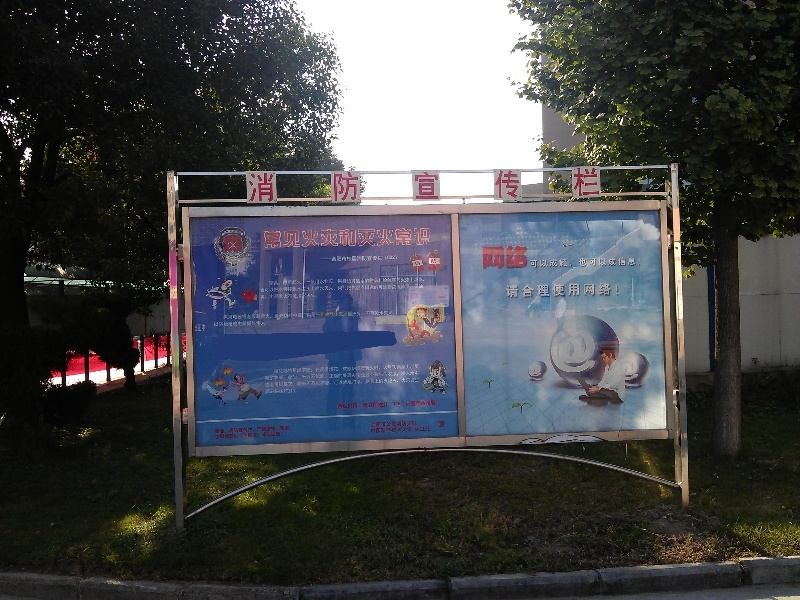text: (257, 167, 272, 204), (273, 167, 288, 204), (289, 167, 304, 204), (305, 167, 320, 204), (321, 167, 336, 204), (337, 167, 352, 204), (353, 167, 368, 204), (369, 167, 384, 204), (385, 167, 400, 204), (401, 167, 416, 204), (417, 167, 432, 204), (433, 167, 448, 204), (449, 167, 464, 204), (465, 167, 480, 204), (481, 167, 496, 204), (497, 167, 512, 204), (513, 167, 528, 204), (529, 167, 544, 204), (545, 167, 560, 204), (561, 167, 576, 204), (577, 167, 592, 204), (273, 226, 288, 250), (289, 226, 304, 250), (305, 226, 320, 250), (321, 226, 336, 250), (337, 226, 352, 250), (353, 226, 368, 250), (369, 226, 384, 250), (385, 226, 400, 250), (401, 226, 416, 250), (417, 226, 432, 250), (247, 167, 256, 204), (593, 167, 602, 204), (497, 247, 512, 269), (513, 247, 528, 269), (482, 247, 496, 269), (513, 282, 528, 299), (529, 282, 544, 299), (545, 282, 560, 299), (561, 282, 576, 299), (577, 282, 592, 299), (593, 282, 608, 299), (545, 257, 560, 270), (561, 257, 576, 270), (577, 257, 592, 270), (593, 257, 608, 270), (609, 257, 624, 270), (625, 257, 640, 270), (264, 226, 272, 250), (609, 282, 620, 299), (530, 257, 544, 270), (273, 276, 288, 287), (289, 276, 304, 287), (305, 276, 320, 287), (321, 276, 336, 287), (337, 276, 352, 287), (353, 276, 368, 287), (369, 276, 384, 287), (385, 276, 400, 287), (401, 276, 416, 287), (273, 283, 288, 294), (289, 283, 304, 294), (305, 283, 320, 294), (321, 283, 336, 294), (337, 283, 352, 294), (353, 283, 368, 294), (369, 283, 384, 294), (385, 283, 400, 294), (401, 283, 416, 294), (273, 370, 288, 381), (289, 370, 304, 381), (305, 370, 320, 381), (321, 370, 336, 381), (337, 370, 352, 381), (353, 370, 368, 381), (369, 370, 384, 381), (385, 370, 400, 381), (401, 370, 416, 381), (225, 310, 240, 320), (241, 310, 256, 320), (257, 310, 272, 320), (273, 310, 288, 320), (289, 310, 304, 320), (305, 310, 320, 320), (321, 310, 336, 320), (337, 310, 352, 320), (353, 310, 368, 320), (369, 310, 384, 320), (353, 400, 368, 410), (369, 400, 384, 410), (385, 400, 400, 410), (401, 400, 416, 410), (417, 400, 432, 410), (289, 364, 304, 374), (305, 364, 320, 374), (321, 364, 336, 374), (337, 364, 352, 374), (353, 364, 368, 374), (369, 364, 384, 374), (385, 364, 400, 374), (401, 364, 416, 374), (305, 377, 320, 387), (321, 377, 336, 387), (337, 377, 352, 387), (353, 377, 368, 387), (369, 377, 384, 387), (385, 377, 400, 387), (401, 377, 416, 387), (338, 400, 352, 410), (274, 364, 288, 374), (504, 282, 512, 299), (273, 292, 288, 301), (289, 292, 304, 301), (225, 425, 240, 434), (241, 425, 256, 434), (257, 425, 272, 434), (273, 425, 288, 434), (385, 426, 400, 435), (261, 283, 272, 294), (321, 255, 336, 263), (337, 255, 352, 263), (353, 255, 368, 263), (369, 255, 384, 263), (225, 320, 240, 328), (241, 320, 256, 328), (225, 432, 240, 440), (241, 432, 256, 440), (257, 432, 272, 440), (385, 420, 400, 428), (401, 420, 416, 428), (305, 292, 318, 301), (195, 323, 208, 332), (371, 426, 384, 435), (260, 292, 272, 301), (401, 426, 413, 435), (273, 388, 288, 395), (385, 255, 398, 263), (371, 420, 384, 428), (385, 310, 395, 320), (417, 276, 426, 287), (273, 382, 288, 388), (417, 283, 425, 294), (257, 320, 268, 328), (417, 426, 431, 432), (215, 425, 224, 434), (214, 320, 224, 328), (273, 432, 283, 440), (265, 370, 272, 381), (215, 432, 224, 440), (438, 421, 448, 428), (297, 377, 304, 387), (289, 388, 298, 395), (433, 400, 439, 410), (265, 388, 272, 395), (417, 260, 423, 268), (268, 276, 272, 287), (265, 382, 272, 388), (417, 370, 420, 381), (417, 364, 420, 374), (417, 377, 420, 387), (289, 425, 292, 434), (641, 257, 643, 270), (433, 259, 438, 264), (433, 226, 434, 250), (413, 260, 416, 268), (289, 382, 293, 388), (430, 259, 432, 264), (417, 420, 418, 428), (415, 426, 416, 432)
